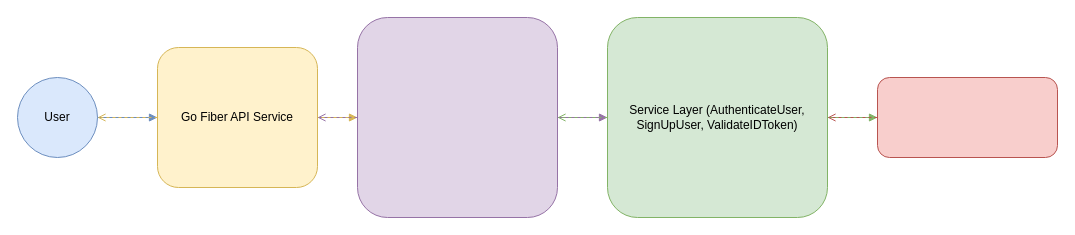
Some shapes in this 1075 by 235 pixel diagram are drawn without their labels. Here are the shapes that lost their labels. From the top down, the centre of each, then its label:
At (457,117): "Handlers (Login, SignUp, ValidateToken)".
At (967,117): "Google Cloud Identity Platform".
